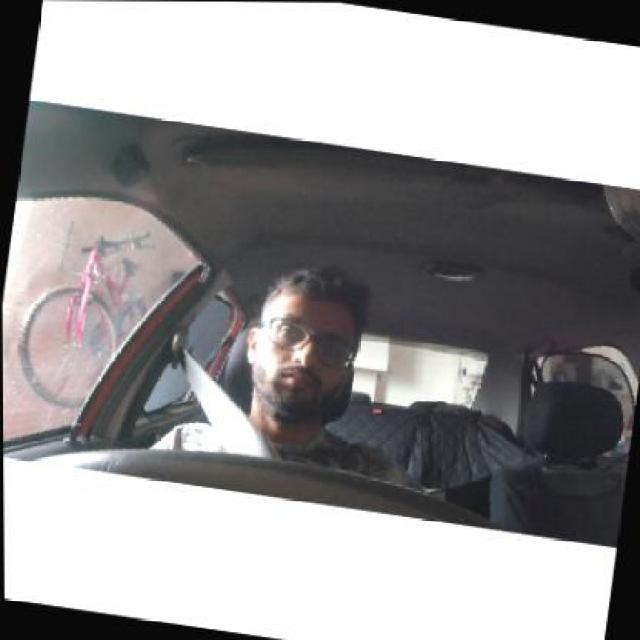person: (242, 262, 388, 440)
